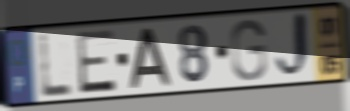8: (177, 23, 212, 86)
A: (128, 27, 174, 90)
E: (74, 27, 118, 97)
G: (229, 18, 269, 83)
J: (273, 9, 313, 84)
L: (37, 31, 75, 100)
